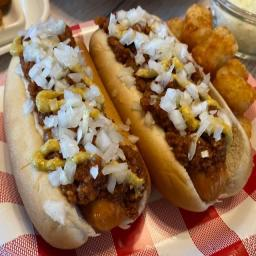hotdog: (89, 4, 256, 219), (8, 22, 152, 246)
